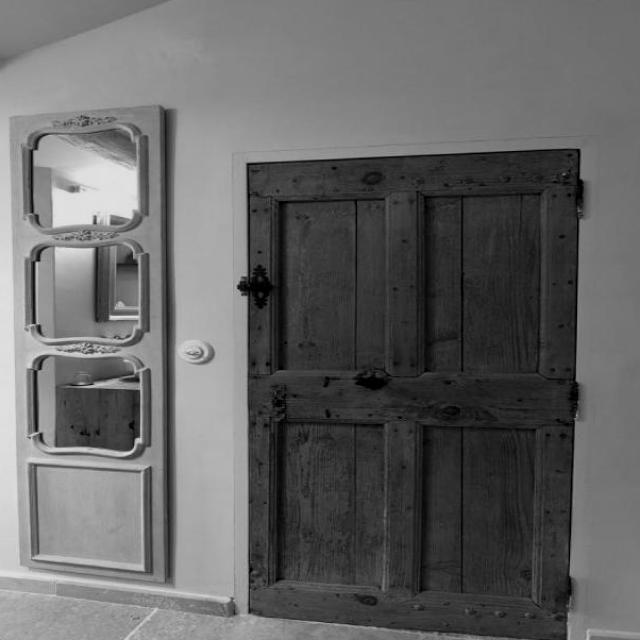door: (243, 147, 580, 637)
